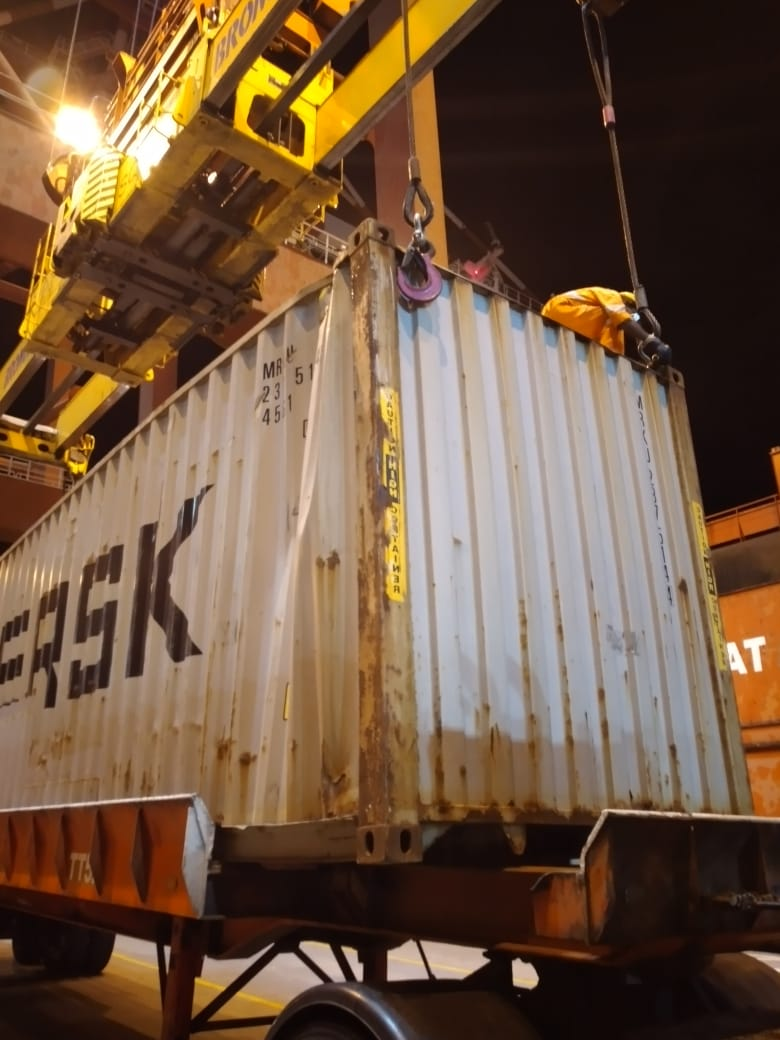bulged: (258, 262, 366, 555)
rust: (93, 765, 170, 796), (212, 734, 260, 773)
